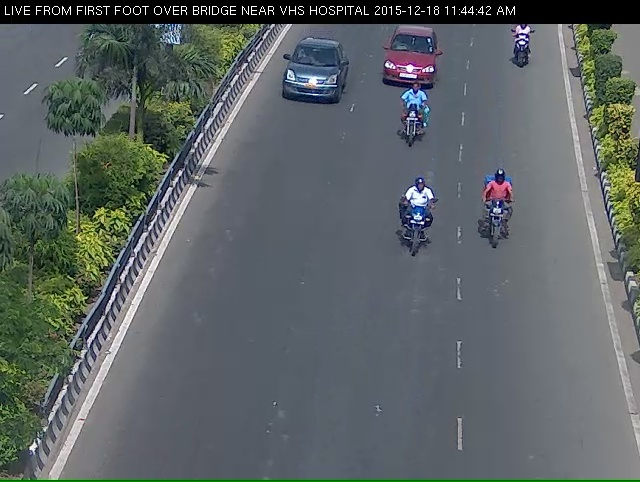Car: (378, 28, 444, 103), (276, 47, 346, 116)
Person: (392, 186, 438, 279), (481, 179, 524, 266), (399, 94, 431, 161), (507, 22, 542, 77)
